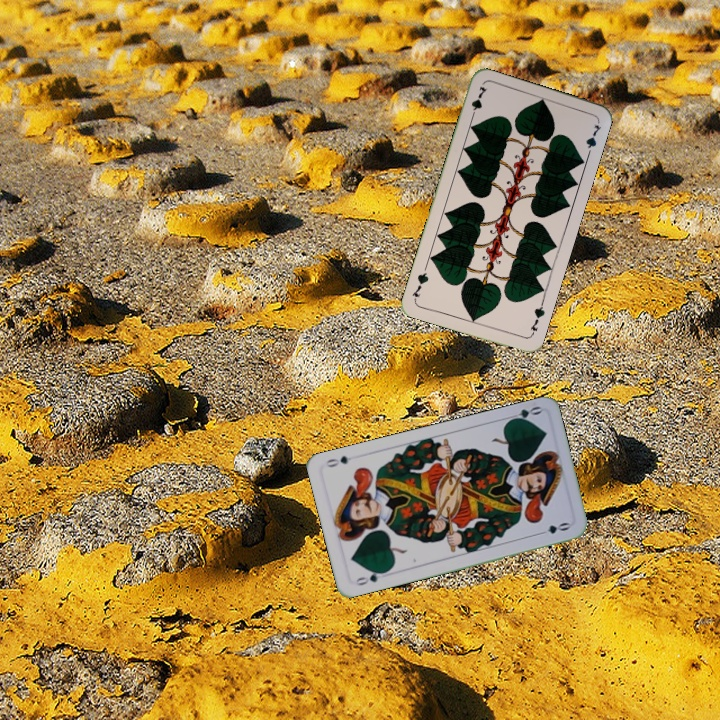G7: (467, 82, 489, 122), (526, 298, 547, 338)
GO: (503, 402, 544, 424), (352, 567, 390, 588)
